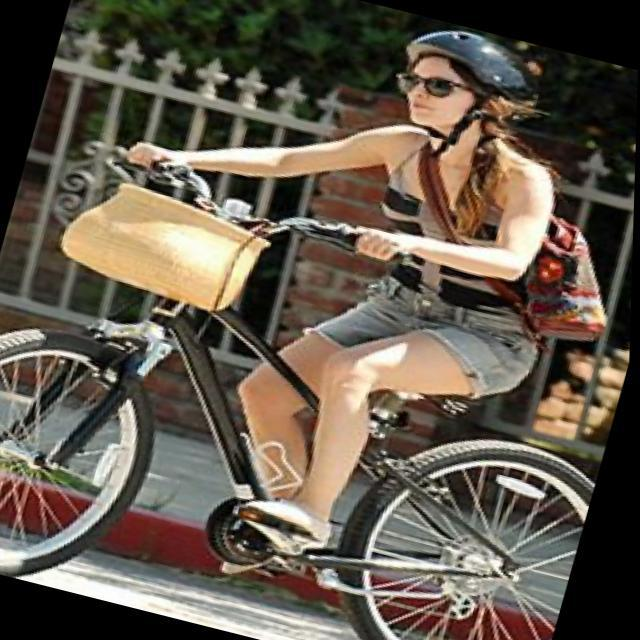Helmet: (389, 22, 532, 160)
